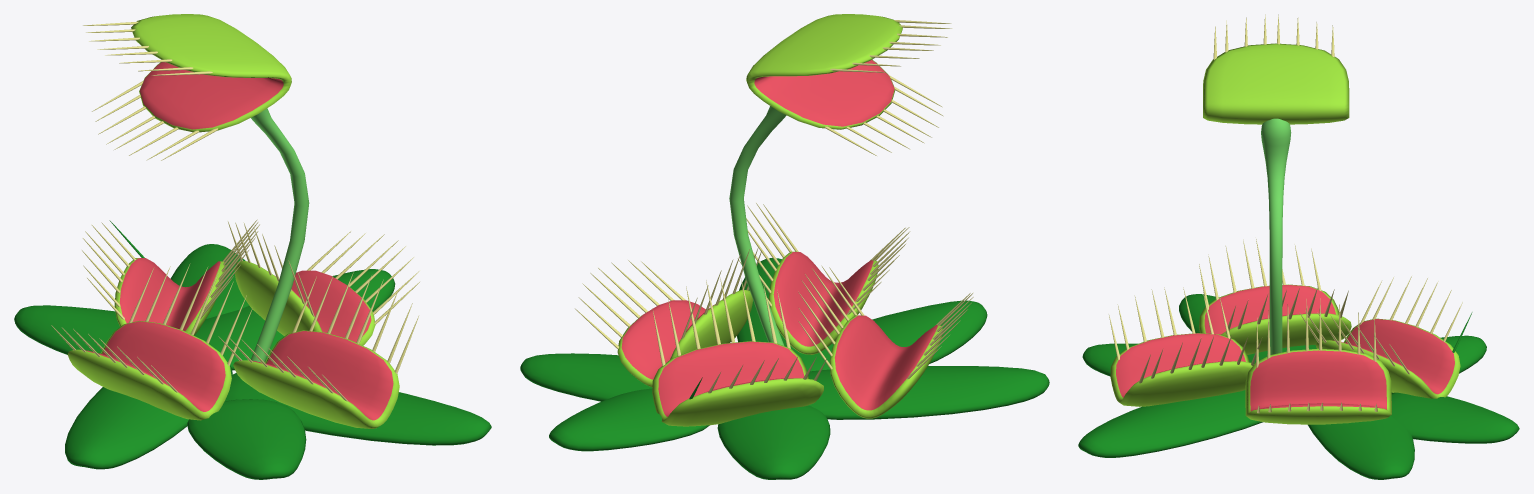
File: flyt.fbx
The picture shows the model from 3 angles, left to right: view 1: azimuth 30°, elevation 25°; view 2: azimuth 150°, elevation 25°; view 3: azimuth 270°, elevation 25°; orthographic projection. The views are drawn at different scales.
Visible parts, largest first — view 1: flytrap; view 2: flytrap; view 3: flytrap.
Part boxes in pixels (x1=…): flytrap: x1=14, y1=14, x2=491, y2=479; flytrap: x1=520, y1=14, x2=1049, y2=479; flytrap: x1=1078, y1=14, x2=1519, y2=479.
Size of the model in its own units: 536 by 451 by 553.
